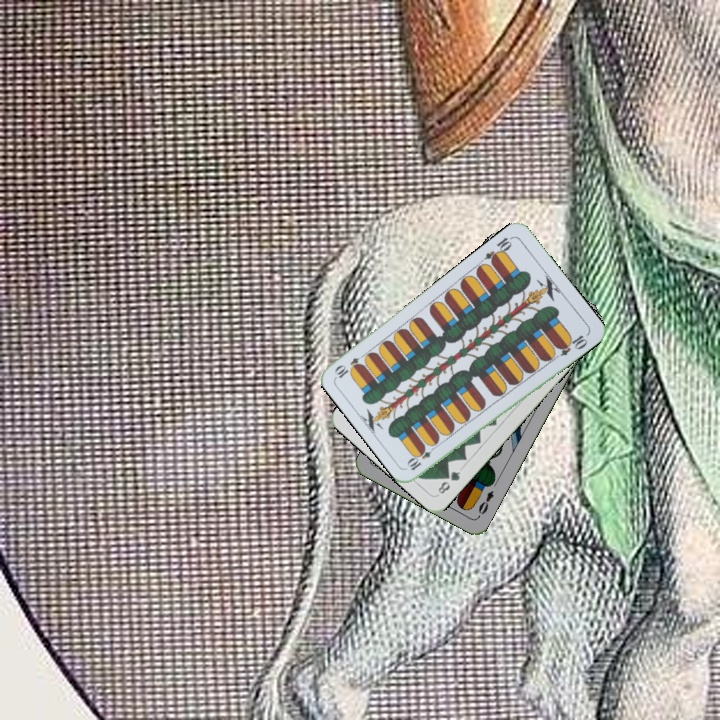E10: (481, 233, 515, 267), (404, 441, 439, 473)
EO: (474, 486, 496, 520)
G8: (433, 467, 463, 497)
